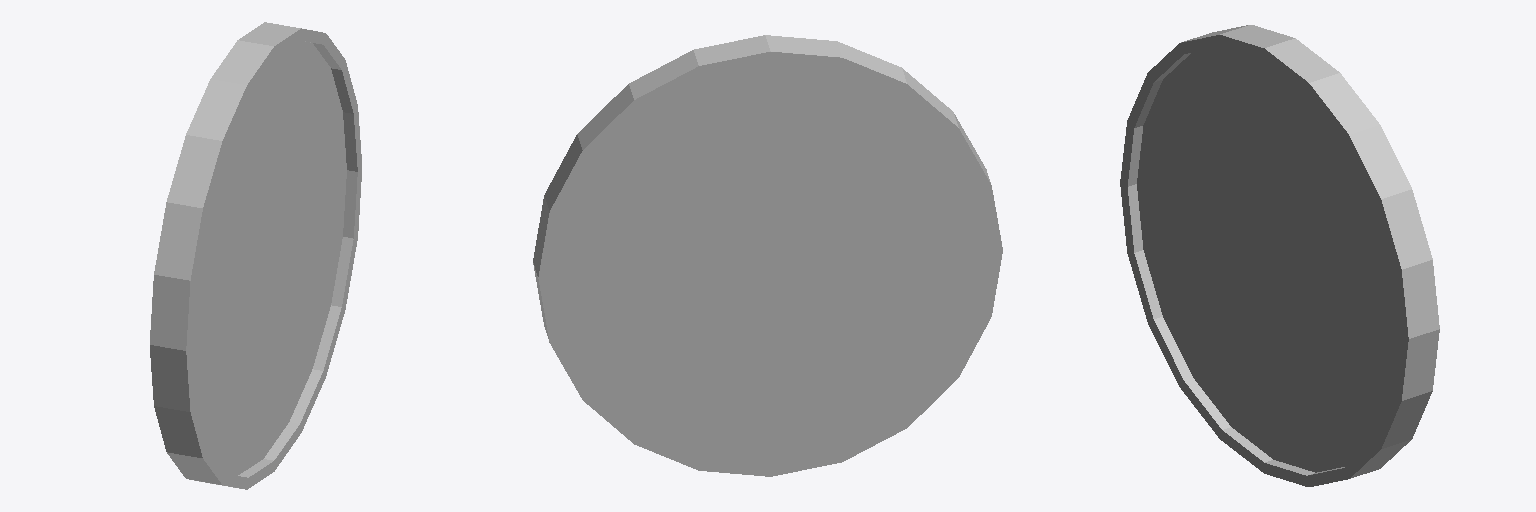
The model's file is coin 9.obj.
3 views of the same model, side by side, from view 1: azimuth 30°, elevation 25°; view 2: azimuth 150°, elevation 25°; view 3: azimuth 270°, elevation 25° (orthographic).
Visible parts, largest first — view 1: pCylinder1; view 2: pCylinder1; view 3: pCylinder1.
Part boxes in pixels (x1,y1,x2,y2): pCylinder1: (150,22,361,489); pCylinder1: (533,35,1002,476); pCylinder1: (1120,25,1439,486).
Size of the model in its own units: 1.68 by 2 by 1.36.